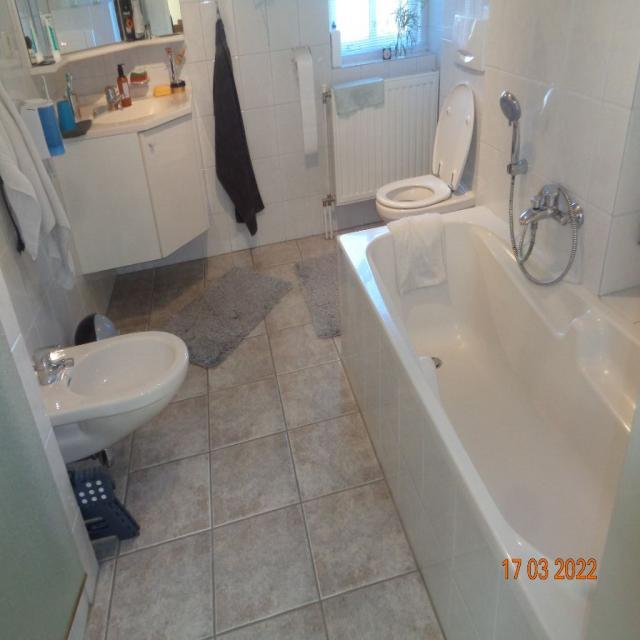bath: (335, 179, 640, 640)
toilet: (374, 14, 487, 224), (28, 329, 188, 466)
wastafel: (49, 95, 212, 276), (85, 86, 176, 127)
